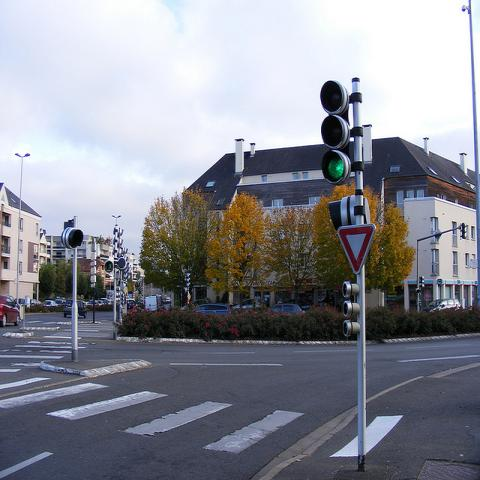car: (10, 287, 316, 321), (0, 296, 20, 327), (422, 298, 464, 312), (232, 300, 268, 316), (63, 298, 88, 318), (193, 304, 231, 317), (269, 304, 302, 314), (41, 300, 58, 307), (55, 298, 66, 306), (87, 300, 99, 307), (98, 300, 104, 311), (165, 296, 171, 304), (18, 298, 26, 304)
